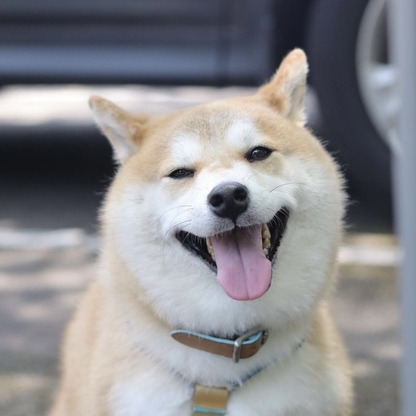shiba: (50, 44, 361, 416)
